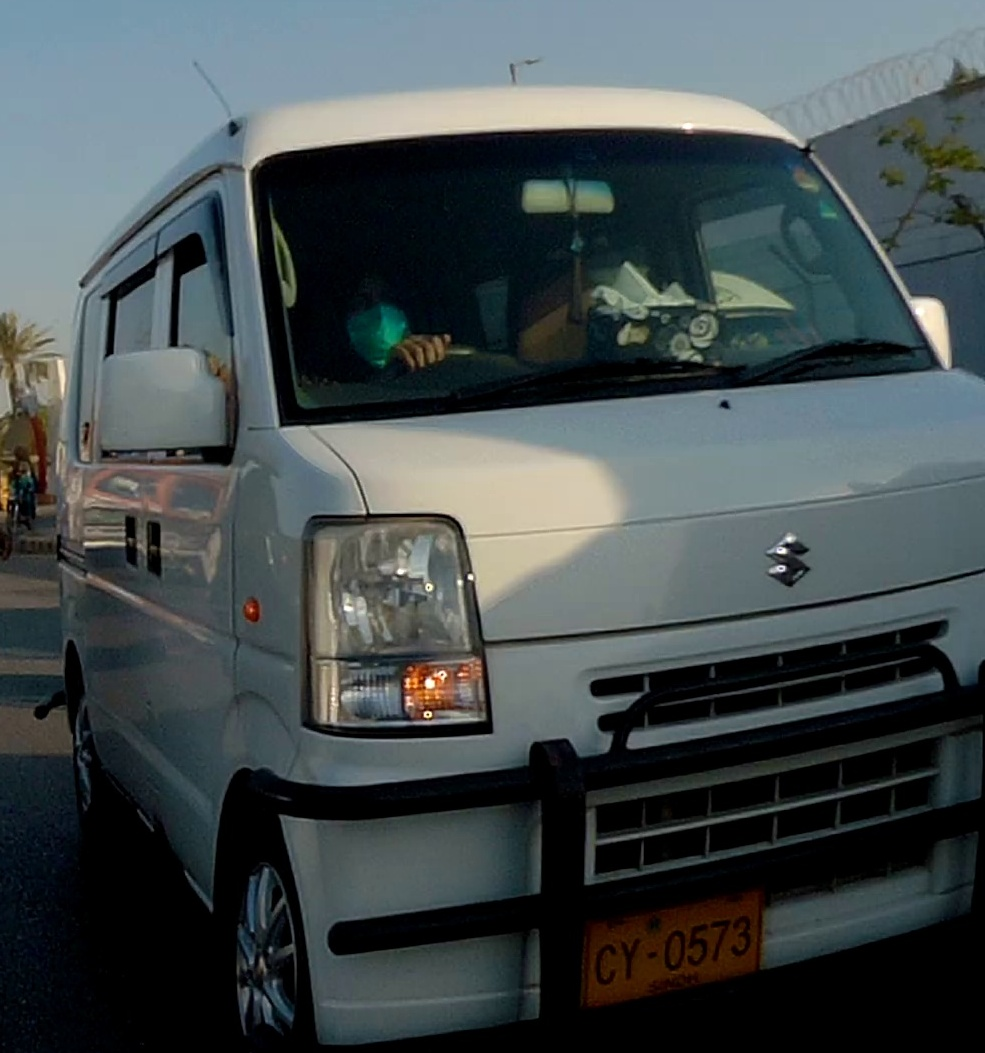van: (33, 84, 985, 1053)
